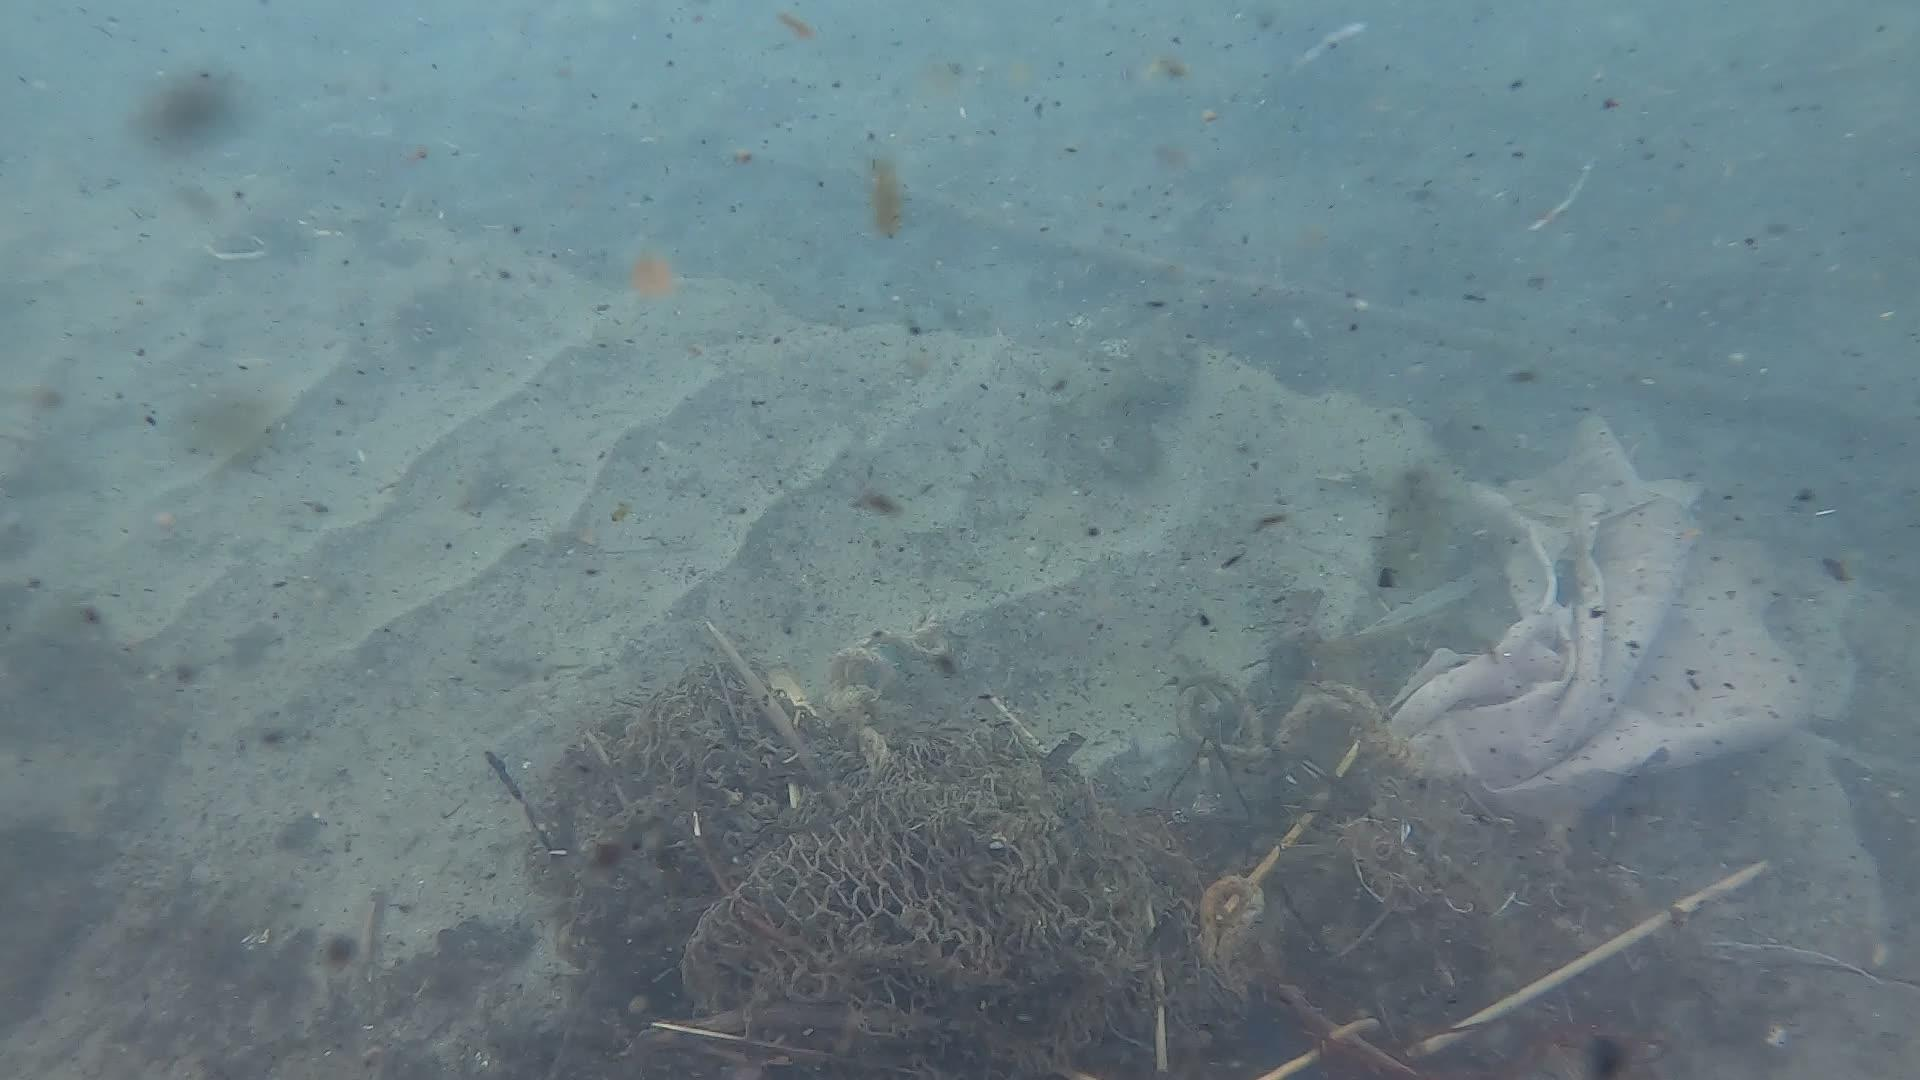fish net: (653, 702, 1085, 1029)
